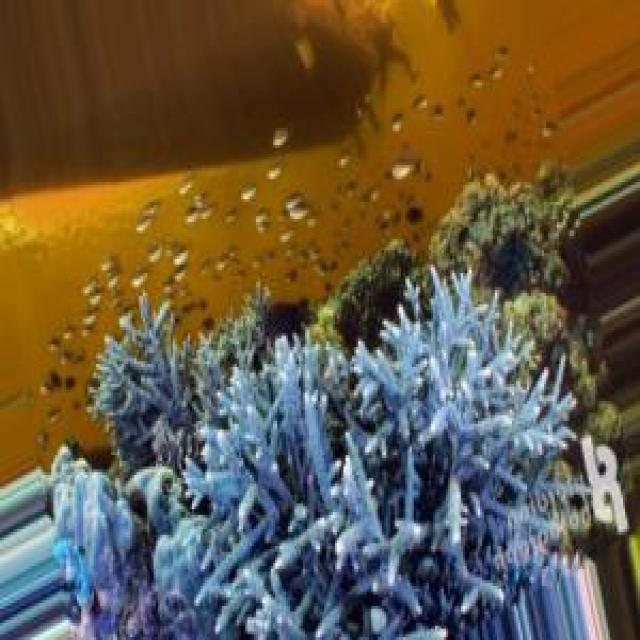Healthy: (44, 192, 632, 640)
